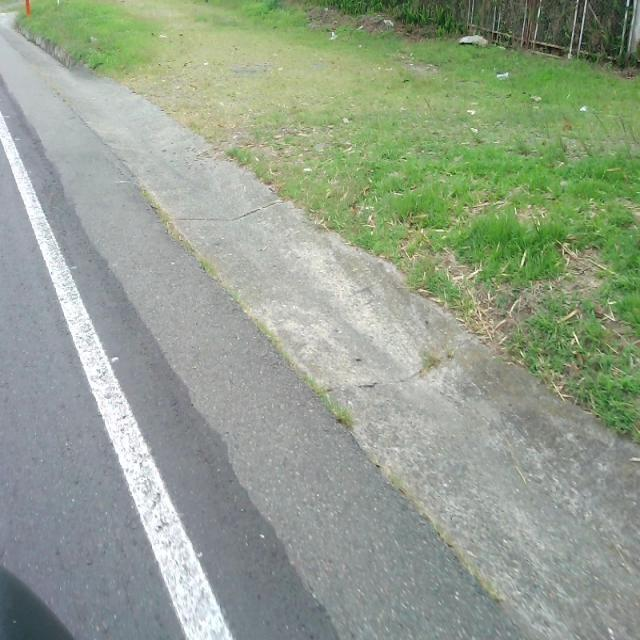DITCH: (1, 11, 638, 638), (1, 48, 638, 638)
